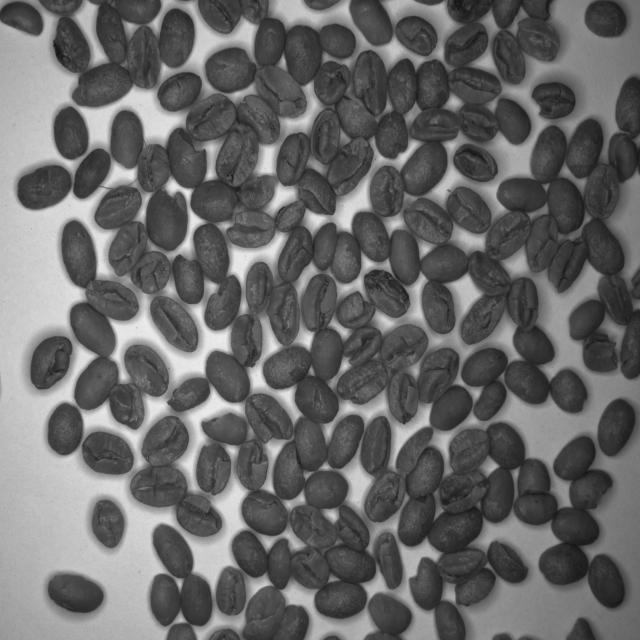bad: (150, 294, 200, 357), (214, 121, 260, 188), (326, 135, 375, 197), (253, 64, 307, 120), (144, 186, 190, 251), (72, 62, 134, 108), (44, 570, 105, 616), (460, 288, 507, 346), (166, 125, 208, 189), (484, 208, 532, 264), (129, 464, 188, 509), (139, 414, 190, 466), (244, 391, 294, 444), (81, 429, 135, 478), (402, 196, 454, 246), (447, 62, 503, 108), (363, 267, 411, 320), (28, 335, 73, 391), (204, 44, 256, 92), (293, 373, 341, 425), (352, 48, 388, 117), (107, 219, 149, 278), (242, 583, 285, 640), (446, 183, 493, 235), (52, 15, 92, 76), (547, 236, 589, 294), (236, 92, 281, 146), (124, 343, 169, 397), (126, 22, 161, 91), (84, 278, 140, 321), (417, 347, 460, 403), (582, 162, 622, 222), (288, 503, 338, 551), (336, 361, 389, 406), (266, 280, 301, 348), (364, 470, 406, 526), (189, 178, 240, 224), (204, 273, 243, 333), (301, 272, 338, 335), (276, 223, 313, 285), (381, 323, 429, 370), (568, 466, 615, 514), (514, 16, 560, 65), (241, 489, 288, 536), (94, 184, 142, 230), (177, 490, 223, 538), (194, 440, 232, 498), (335, 94, 379, 144), (408, 106, 461, 147), (466, 249, 511, 297), (440, 469, 490, 512), (444, 20, 489, 67), (368, 162, 406, 217), (407, 554, 444, 610), (394, 12, 440, 57), (486, 537, 529, 585), (548, 366, 589, 416), (96, 2, 128, 66), (273, 439, 306, 501), (492, 27, 526, 87), (230, 311, 265, 369), (526, 212, 558, 275), (448, 427, 490, 475), (421, 278, 456, 335), (531, 80, 578, 122), (288, 543, 330, 590), (226, 210, 275, 250), (298, 167, 337, 217), (360, 413, 390, 478), (308, 108, 341, 167), (598, 272, 634, 326), (276, 129, 310, 186), (373, 529, 404, 591), (155, 72, 203, 112), (395, 426, 435, 474), (108, 382, 147, 431), (294, 416, 328, 472), (312, 58, 350, 108), (88, 498, 126, 548), (136, 141, 171, 195), (508, 274, 540, 333), (457, 101, 500, 144), (387, 368, 420, 424), (214, 562, 247, 618), (453, 566, 497, 608), (130, 250, 171, 295), (452, 144, 498, 184), (171, 252, 205, 306), (437, 548, 488, 584), (200, 408, 248, 446), (180, 571, 213, 626), (613, 73, 640, 140), (237, 436, 269, 492), (334, 504, 371, 552), (374, 109, 409, 159), (165, 376, 211, 414), (335, 288, 377, 329), (608, 130, 639, 185), (245, 259, 274, 317), (342, 324, 381, 367), (567, 297, 605, 341), (618, 307, 640, 381), (513, 491, 559, 526), (235, 173, 278, 210), (582, 331, 618, 374), (516, 455, 552, 498), (265, 536, 292, 590), (312, 220, 338, 273), (434, 600, 466, 640), (446, 0, 493, 26), (274, 198, 306, 234), (518, 0, 553, 22), (240, 0, 270, 25)
good: (399, 138, 449, 196), (580, 215, 626, 278), (69, 301, 117, 359), (60, 217, 98, 290), (206, 348, 252, 405), (16, 162, 73, 207), (185, 93, 237, 142), (73, 356, 120, 410), (283, 23, 323, 85), (153, 522, 195, 580), (192, 222, 230, 286), (566, 116, 604, 180), (428, 506, 483, 550), (397, 490, 438, 549), (598, 394, 636, 457), (537, 541, 589, 587), (546, 175, 585, 236), (530, 122, 567, 186), (588, 552, 628, 611), (312, 580, 368, 622), (552, 432, 597, 484), (412, 51, 450, 112), (550, 504, 602, 548), (45, 399, 84, 457), (348, 0, 395, 48), (503, 358, 550, 406), (160, 8, 196, 70), (110, 106, 144, 171), (72, 146, 114, 198), (325, 543, 377, 585), (406, 444, 445, 500), (418, 243, 468, 286), (352, 209, 391, 264), (263, 346, 311, 390), (429, 383, 473, 431), (366, 590, 414, 634), (328, 413, 365, 470), (52, 104, 89, 160), (460, 346, 508, 389), (497, 174, 547, 215), (385, 53, 417, 117), (481, 463, 515, 522), (494, 97, 533, 148), (486, 422, 526, 471), (510, 324, 556, 366), (582, 0, 629, 41), (231, 530, 269, 580), (303, 468, 349, 509), (388, 228, 420, 286), (311, 328, 344, 382), (0, 1, 45, 39), (331, 229, 362, 284), (149, 572, 180, 626), (253, 17, 285, 68), (196, 0, 241, 35), (271, 600, 309, 640), (318, 22, 357, 60), (473, 382, 508, 421), (490, 0, 522, 30)
